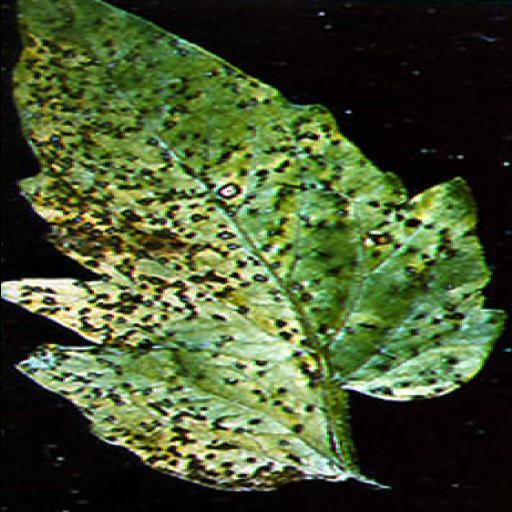disease_tomato: (0, 0, 512, 503)
